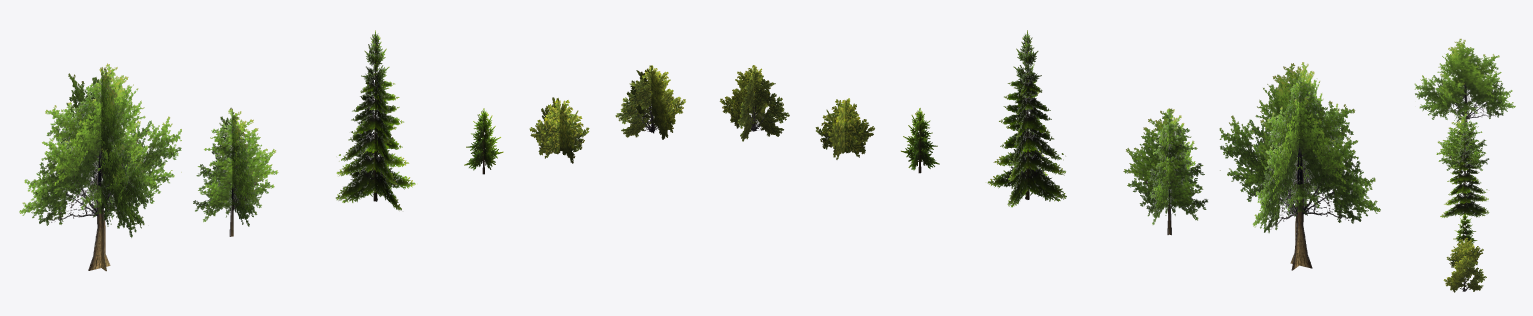
Rendered from xiasong_B.FBX.
3 views of the same model, side by side, from view 1: azimuth 30°, elevation 25°; view 2: azimuth 150°, elevation 25°; view 3: azimuth 270°, elevation 25° (orthographic). The views are drawn at different scales.
Visible parts, largest first — view 1: Object01, Object10, Object06, Object02, Object03, Object09; view 2: Object01, Object10, Object06, Object02, Object03, Object09; view 3: Object01, Object10, Object06, Object02, Object03, Object09.
Boxes of the visible parts, left/top/right/bottom form: Object01: left=19, top=63, right=181, bottom=271; Object10: left=335, top=30, right=415, bottom=210; Object06: left=193, top=107, right=278, bottom=236; Object02: left=615, top=65, right=685, bottom=139; Object03: left=529, top=97, right=589, bottom=163; Object09: left=464, top=108, right=503, bottom=174; Object01: left=1219, top=62, right=1380, bottom=270; Object10: left=987, top=30, right=1066, bottom=207; Object06: left=1123, top=108, right=1207, bottom=235; Object02: left=719, top=65, right=789, bottom=141; Object03: left=815, top=98, right=874, bottom=159; Object09: left=901, top=108, right=939, bottom=173; Object01: left=1414, top=38, right=1515, bottom=146; Object10: left=1440, top=128, right=1489, bottom=219; Object06: left=1436, top=113, right=1489, bottom=182; Object02: left=1443, top=255, right=1486, bottom=292; Object03: left=1446, top=237, right=1483, bottom=267; Object09: left=1453, top=213, right=1477, bottom=243.
Bounding box in the file's own units: 445 × 137 × 111.
Materials: 1 (1 with a texture image).
